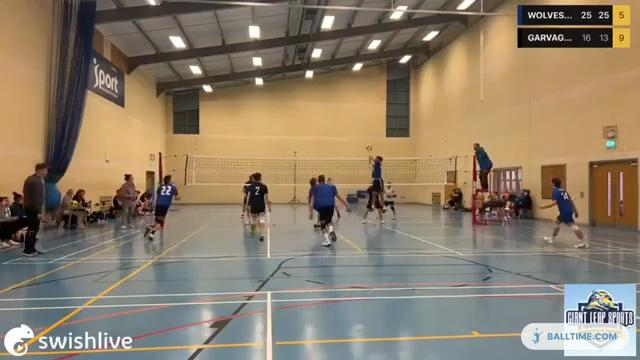Player: (540, 177, 588, 248), (309, 175, 349, 246), (144, 175, 178, 239), (245, 173, 270, 240), (362, 186, 383, 223), (369, 156, 383, 202), (241, 175, 252, 224), (384, 182, 397, 219), (335, 206, 340, 218), (314, 219, 319, 228)
Set: (362, 144, 388, 226)
ball: (362, 143, 376, 152)
